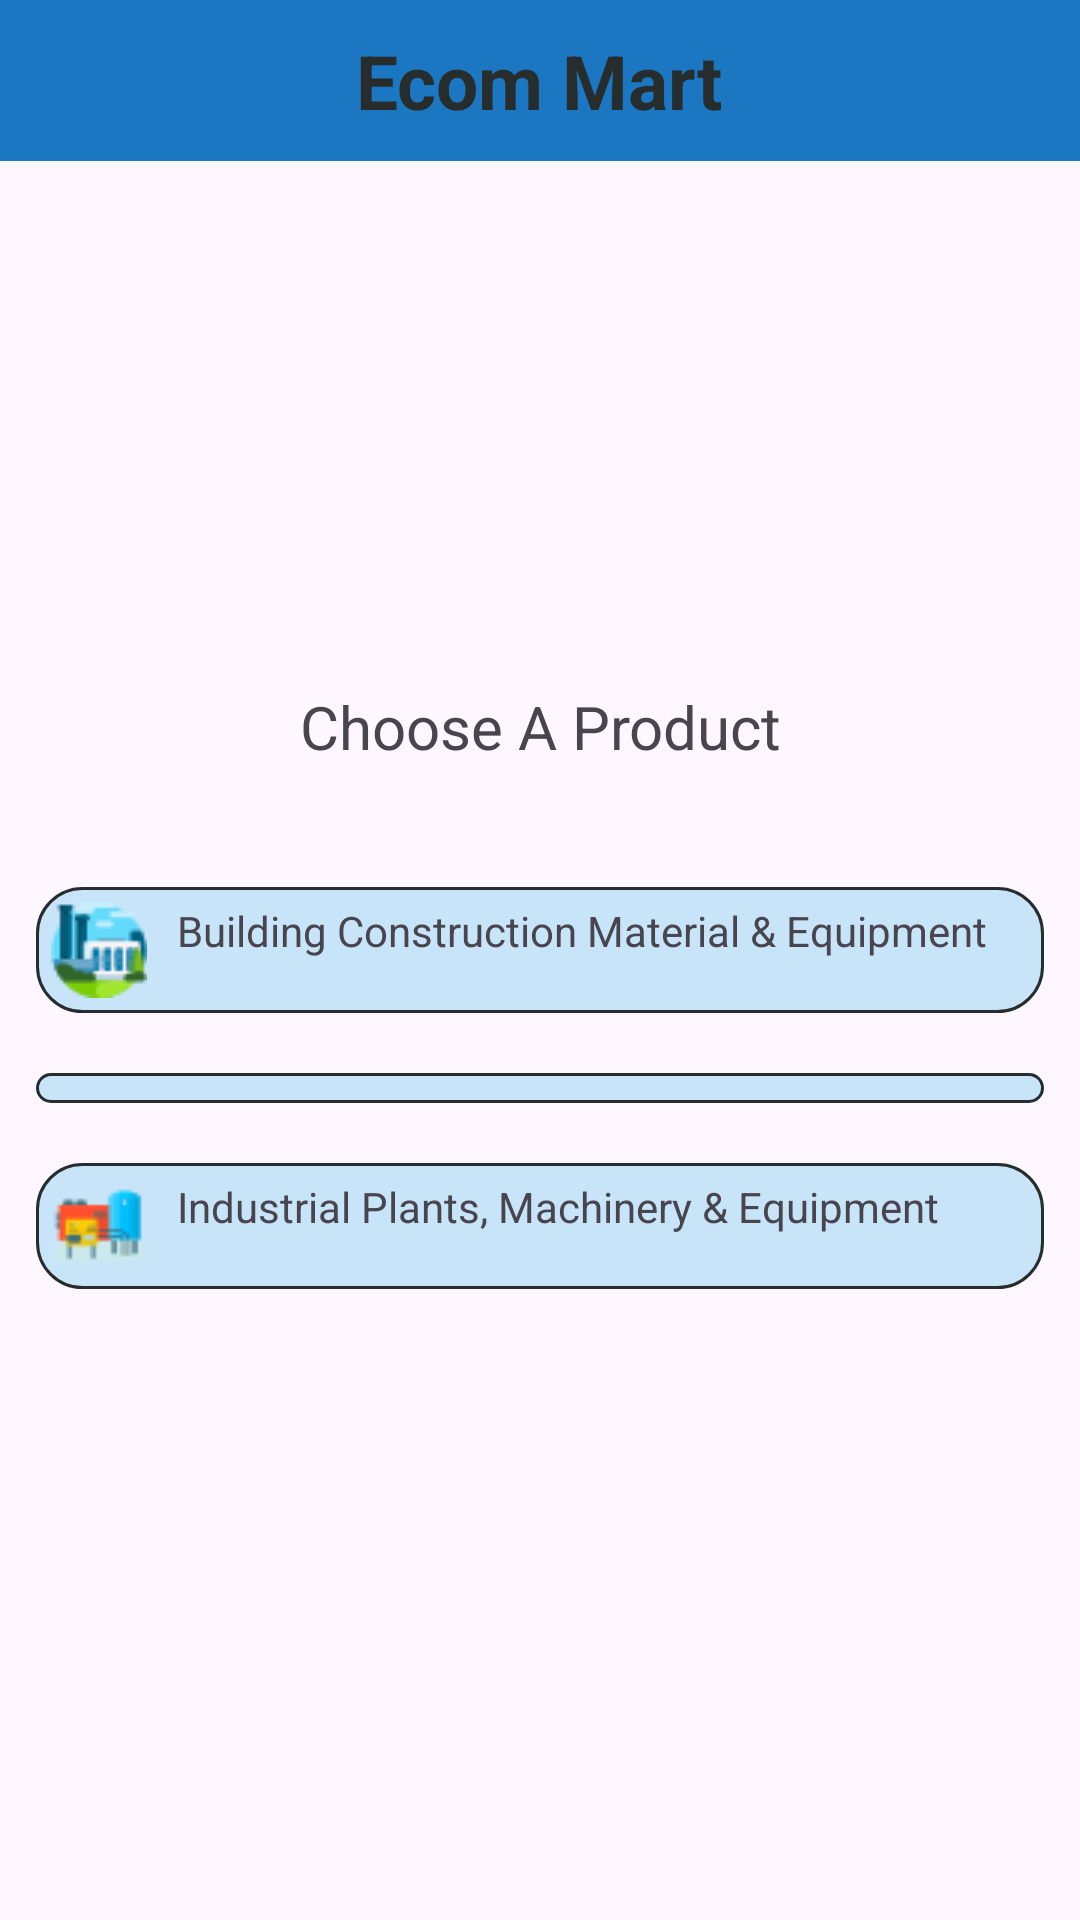

Named icons in this screenshot (1080x1920) and their bounding boxes, (x1=x1, y1=y1, x2=x2, y2=y2):
machineryx: (x1=55, y1=1189, x2=142, y2=1260)
